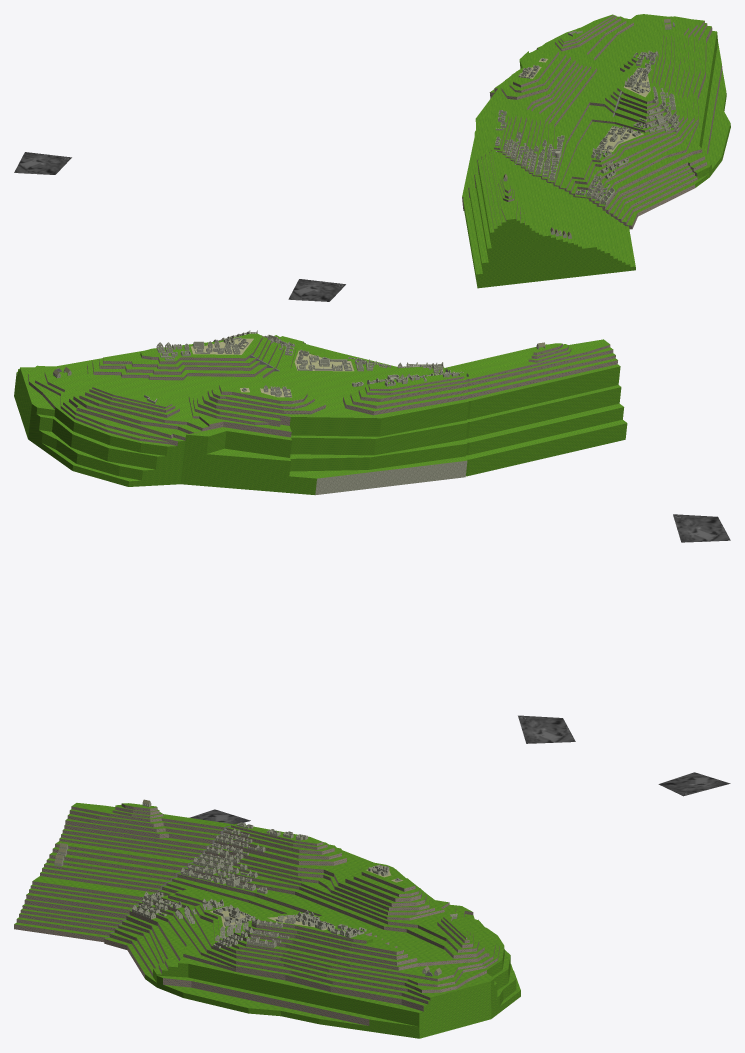
File: machu.fbx
3 renders of one model, top to bottom at view 1: azimuth 30°, elevation 25°; view 2: azimuth 150°, elevation 25°; view 3: azimuth 270°, elevation 25°, orthographic. The views are drawn at different scales.
Parts seen in each view (by area): view 1: Group#25 Vegetation_HoneyLocust, Group#27 Vegetation_HoneyLocust, Group#25 Groundcover_RiverRock_4inch, Google Earth Snapshot 2, Google Earth Snapshot, Group#25 Groundcover_Sand_Smooth; view 2: Group#25 Vegetation_HoneyLocust, Group#27 Vegetation_HoneyLocust, Group#25 Groundcover_RiverRock_4inch, Group#25 Sketchy_Stone_Ashlar, Group#27 Groundcover_RiverRock_4inch, Google Earth Snapshot 2, Google Earth Snapshot, Group#25 Groundcover_Sand_Smooth; view 3: Group#25 Vegetation_HoneyLocust, Group#25 Groundcover_RiverRock_4inch, Group#27 Groundcover_RiverRock_4inch, Group#27 Vegetation_HoneyLocust, Google Earth Snapshot 2, Google Earth Snapshot.
Part boxes in pixels (x1,y1,x2,y2): Group#25 Vegetation_HoneyLocust: (462, 14, 730, 225); Group#27 Vegetation_HoneyLocust: (463, 150, 635, 288); Group#25 Groundcover_RiverRock_4inch: (462, 15, 722, 229); Google Earth Snapshot 2: (14, 152, 71, 174); Google Earth Snapshot: (288, 279, 345, 301); Group#25 Groundcover_Sand_Smooth: (520, 58, 651, 151); Group#25 Vegetation_HoneyLocust: (14, 333, 468, 494); Group#27 Vegetation_HoneyLocust: (444, 339, 627, 476); Group#25 Groundcover_RiverRock_4inch: (28, 337, 468, 445); Group#25 Sketchy_Stone_Ashlar: (144, 337, 467, 494); Group#27 Groundcover_RiverRock_4inch: (467, 344, 617, 398); Google Earth Snapshot 2: (518, 715, 575, 743); Google Earth Snapshot: (673, 514, 730, 542); Group#25 Groundcover_Sand_Smooth: (190, 338, 354, 397); Group#25 Vegetation_HoneyLocust: (104, 823, 520, 1038); Group#25 Groundcover_RiverRock_4inch: (104, 825, 499, 1025); Group#27 Groundcover_RiverRock_4inch: (14, 803, 223, 942); Group#27 Vegetation_HoneyLocust: (14, 803, 233, 937); Google Earth Snapshot 2: (658, 772, 730, 796); Google Earth Snapshot: (189, 809, 250, 824).
Size of the model in its own units: 65115 by 11436 by 57915.
Materials: 357 (281 with a texture image).
